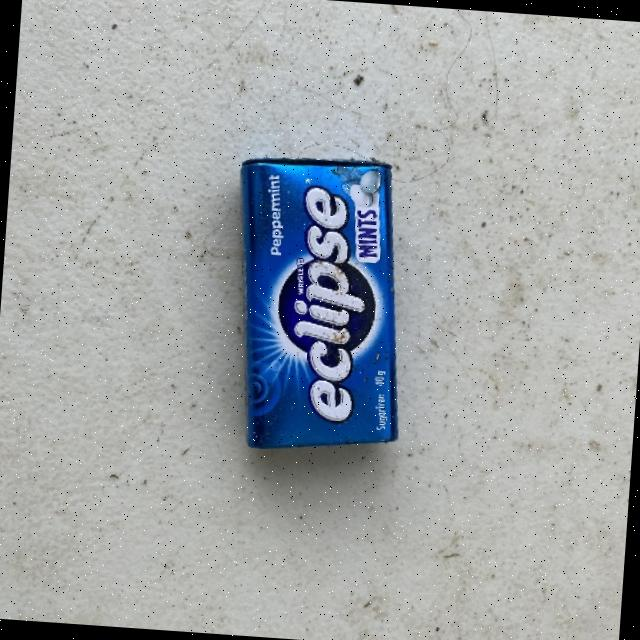metal: (220, 150, 416, 458)
